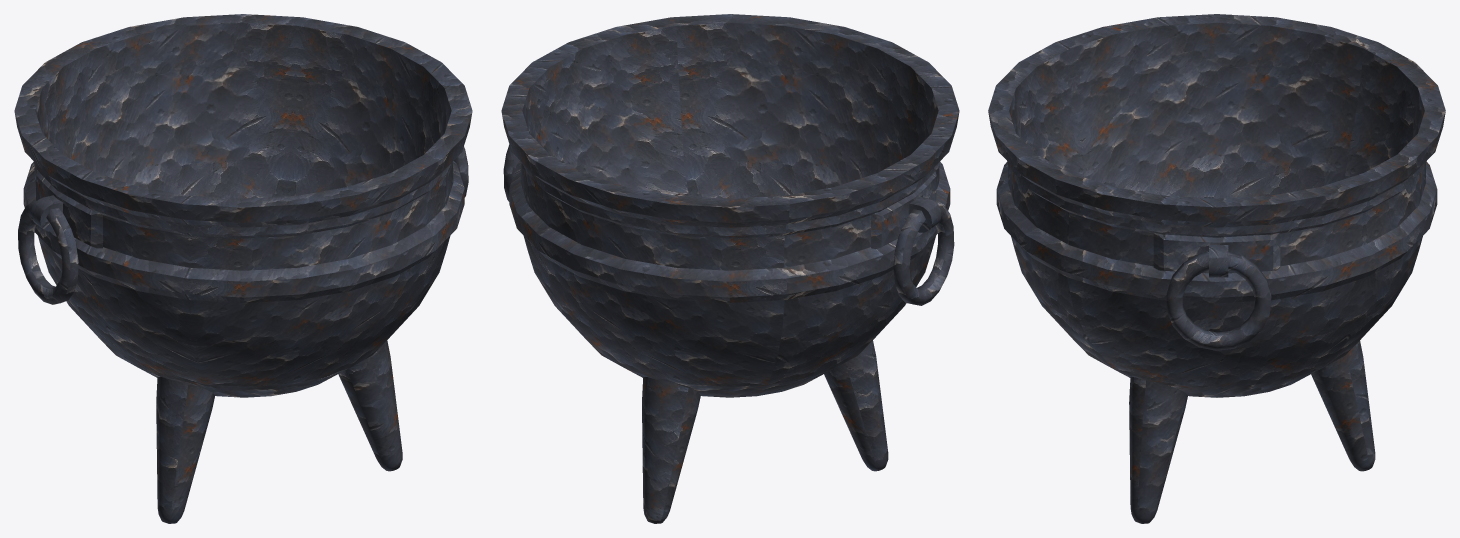
Rendered from furn_cauldron.glb.
3 views of the same model, side by side, from view 1: azimuth 30°, elevation 25°; view 2: azimuth 150°, elevation 25°; view 3: azimuth 270°, elevation 25° (orthographic).
Parts seen in each view (by area): view 1: model; view 2: model; view 3: model.
Boxes of the visible parts, x1,y1,x2,y2 form: model: [14, 14, 472, 523]; model: [501, 14, 959, 523]; model: [988, 14, 1445, 523].
Size of the model in its own units: 0.9891 by 0.8155 by 0.944.
1 material, 1 textured.
